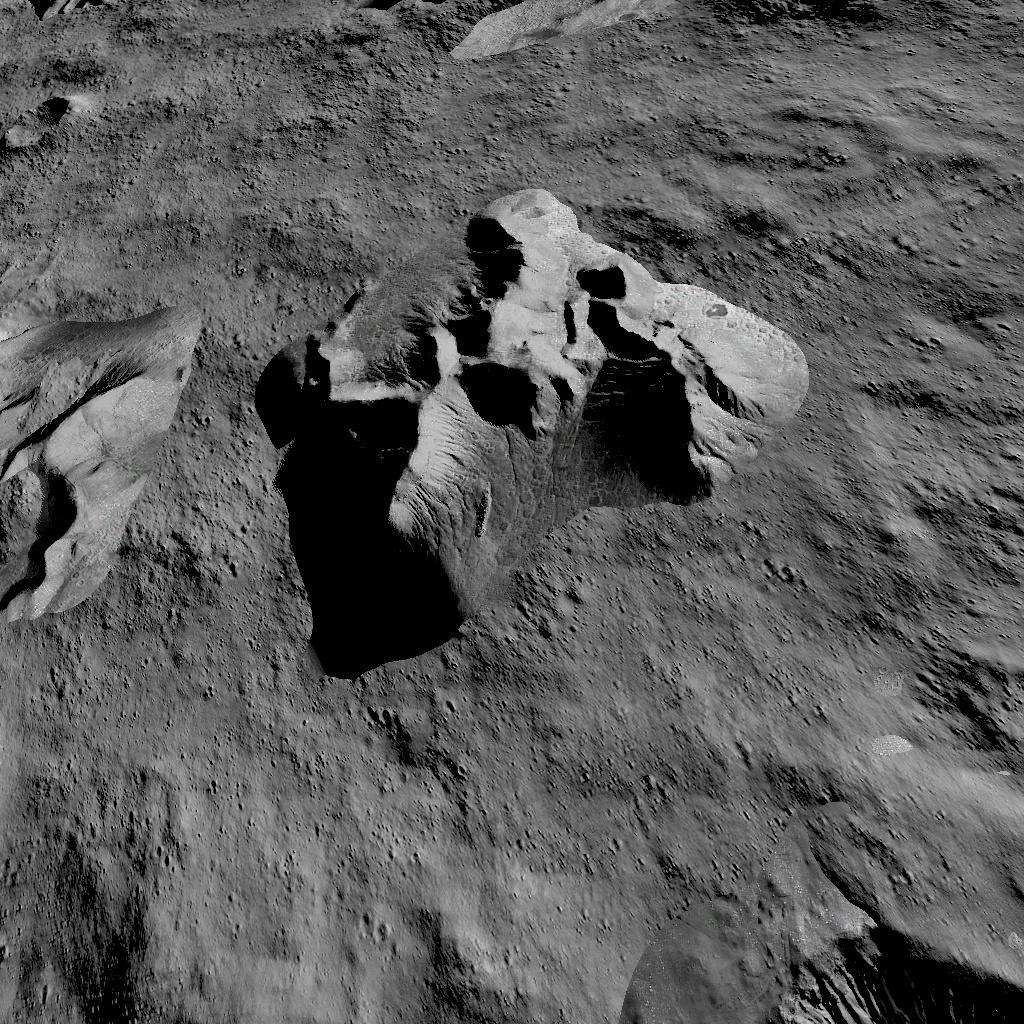Boulders: (256, 188, 810, 680), (0, 298, 203, 630), (404, 0, 686, 60)
Crater: (623, 805, 1024, 1024), (0, 90, 93, 160)
Plan surface: (0, 698, 603, 1024), (828, 68, 1024, 646)
